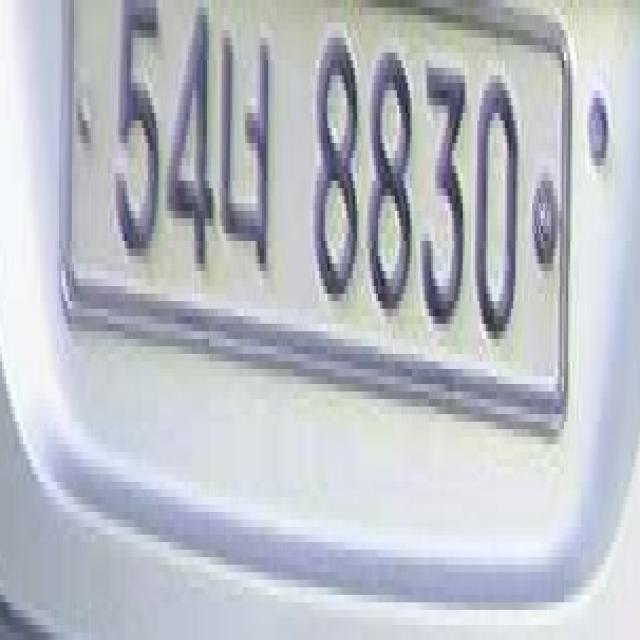0: (467, 68, 517, 354)
3: (414, 8, 469, 346)
4: (167, 8, 224, 301)
5: (114, 8, 167, 271)
8: (306, 8, 359, 332), (366, 8, 418, 332)
license_plate: (55, 8, 574, 429)
neo: (215, 15, 281, 301)
